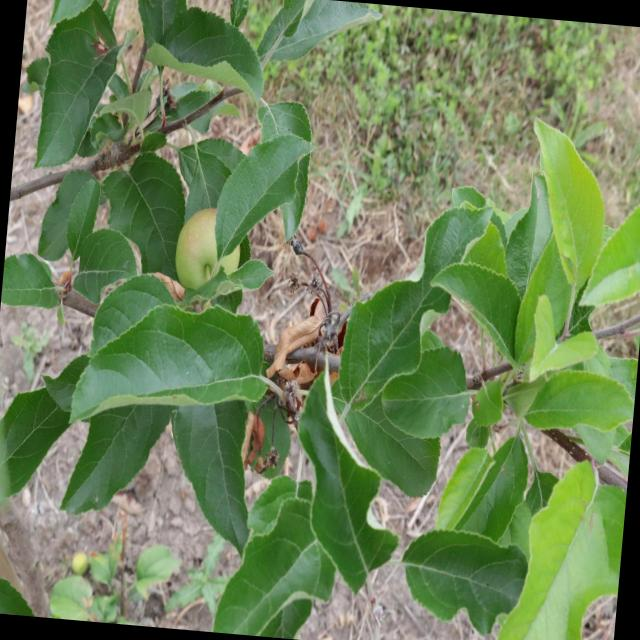-FireBlight-: (272, 311, 346, 394), (240, 401, 268, 464)
